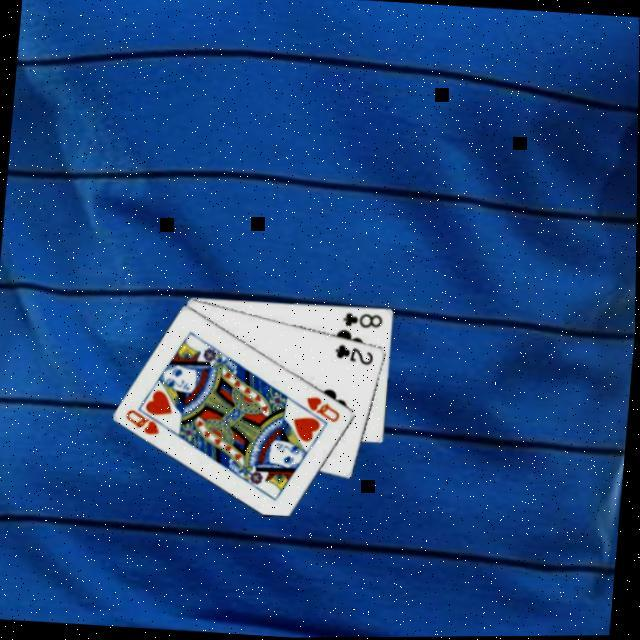2C: (332, 340, 378, 367)
8C: (340, 308, 385, 330)
QH: (122, 402, 172, 437), (302, 392, 344, 425)
